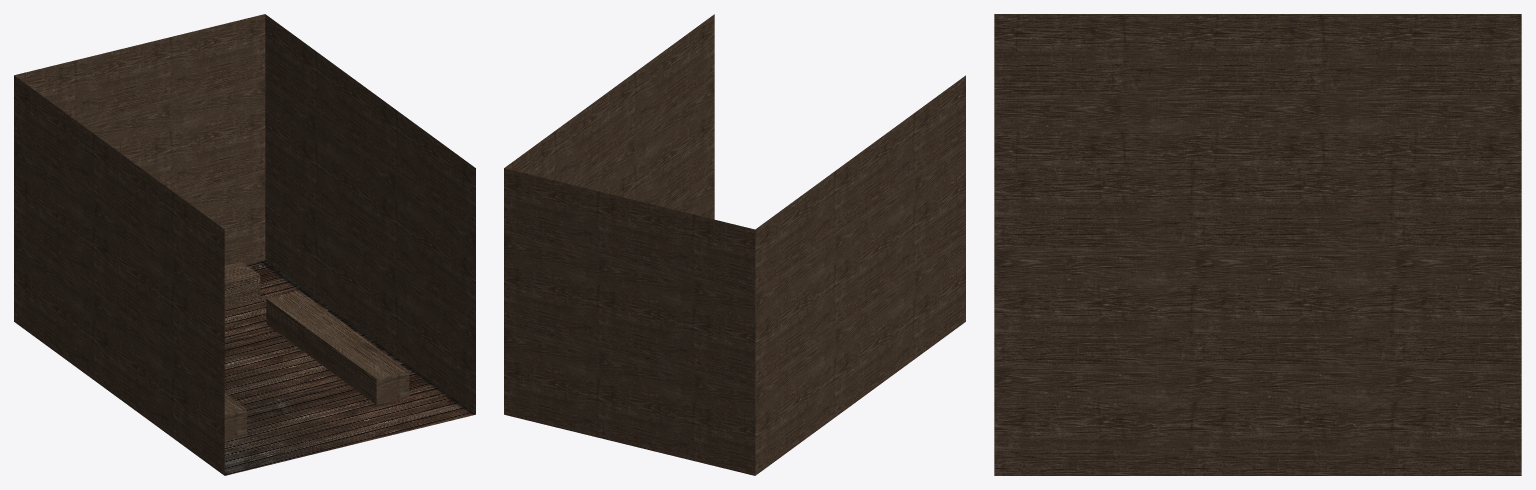
Rendered from shop.glb.
The picture shows the model from 3 angles, left to right: view 1: azimuth 30°, elevation 25°; view 2: azimuth 150°, elevation 25°; view 3: azimuth 270°, elevation 25°; orthographic projection. The views are drawn at different scales.
Visible parts, largest first — view 1: Cube, Cube.002, Cube.003, Cube.001; view 2: Cube; view 3: Cube.
Boxes of the visible parts, x1=… form: Cube: x1=14, y1=14, x2=475, y2=475; Cube.002: x1=266, y1=290, x2=409, y2=404; Cube.003: x1=224, y1=261, x2=260, y2=310; Cube.001: x1=224, y1=393, x2=246, y2=440; Cube: x1=504, y1=14, x2=965, y2=475; Cube: x1=994, y1=14, x2=1521, y2=475.
Size of the model in its own units: 6.35 by 5.97 by 9.23.
5 materials, 5 textured.
